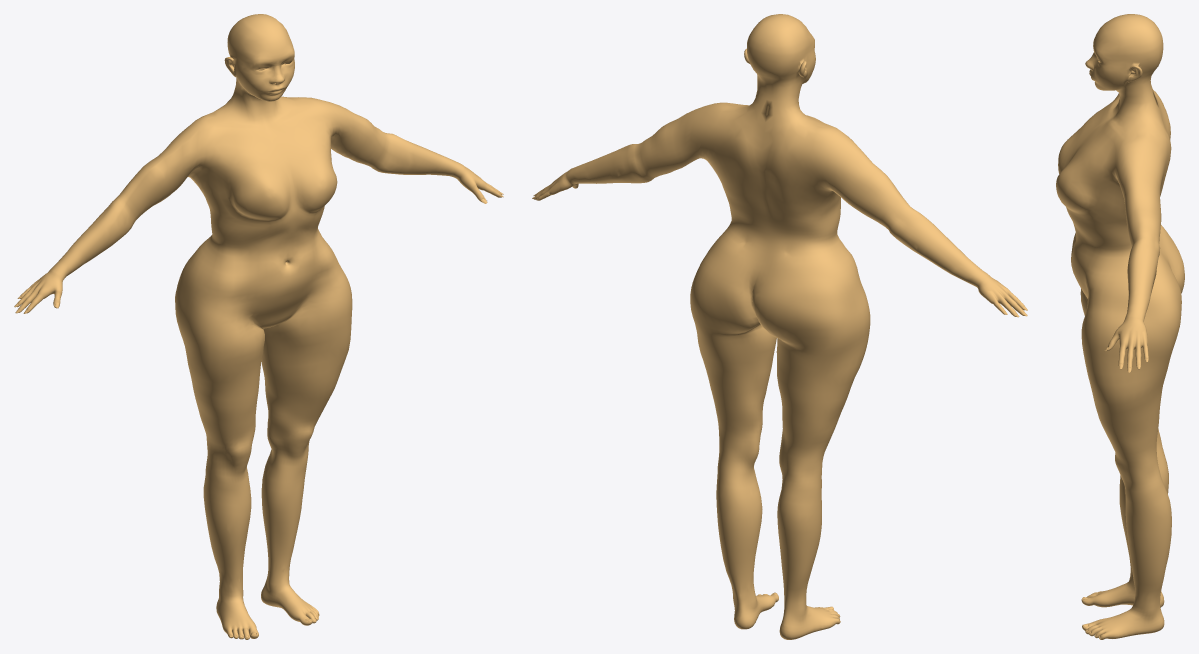
The model's file is female_XL_2.glb.
3 views of the same model, side by side, from view 1: azimuth 30°, elevation 25°; view 2: azimuth 150°, elevation 25°; view 3: azimuth 270°, elevation 25° (orthographic).
Visible parts, largest first — view 1: Body; view 2: Body; view 3: Body.
Part boxes in pixels (x1,y1,x2,y2): Body: [16, 14, 503, 639]; Body: [533, 14, 1024, 639]; Body: [1056, 14, 1184, 639].
Size of the model in its own units: 1.58 by 1.85 by 0.3591.
